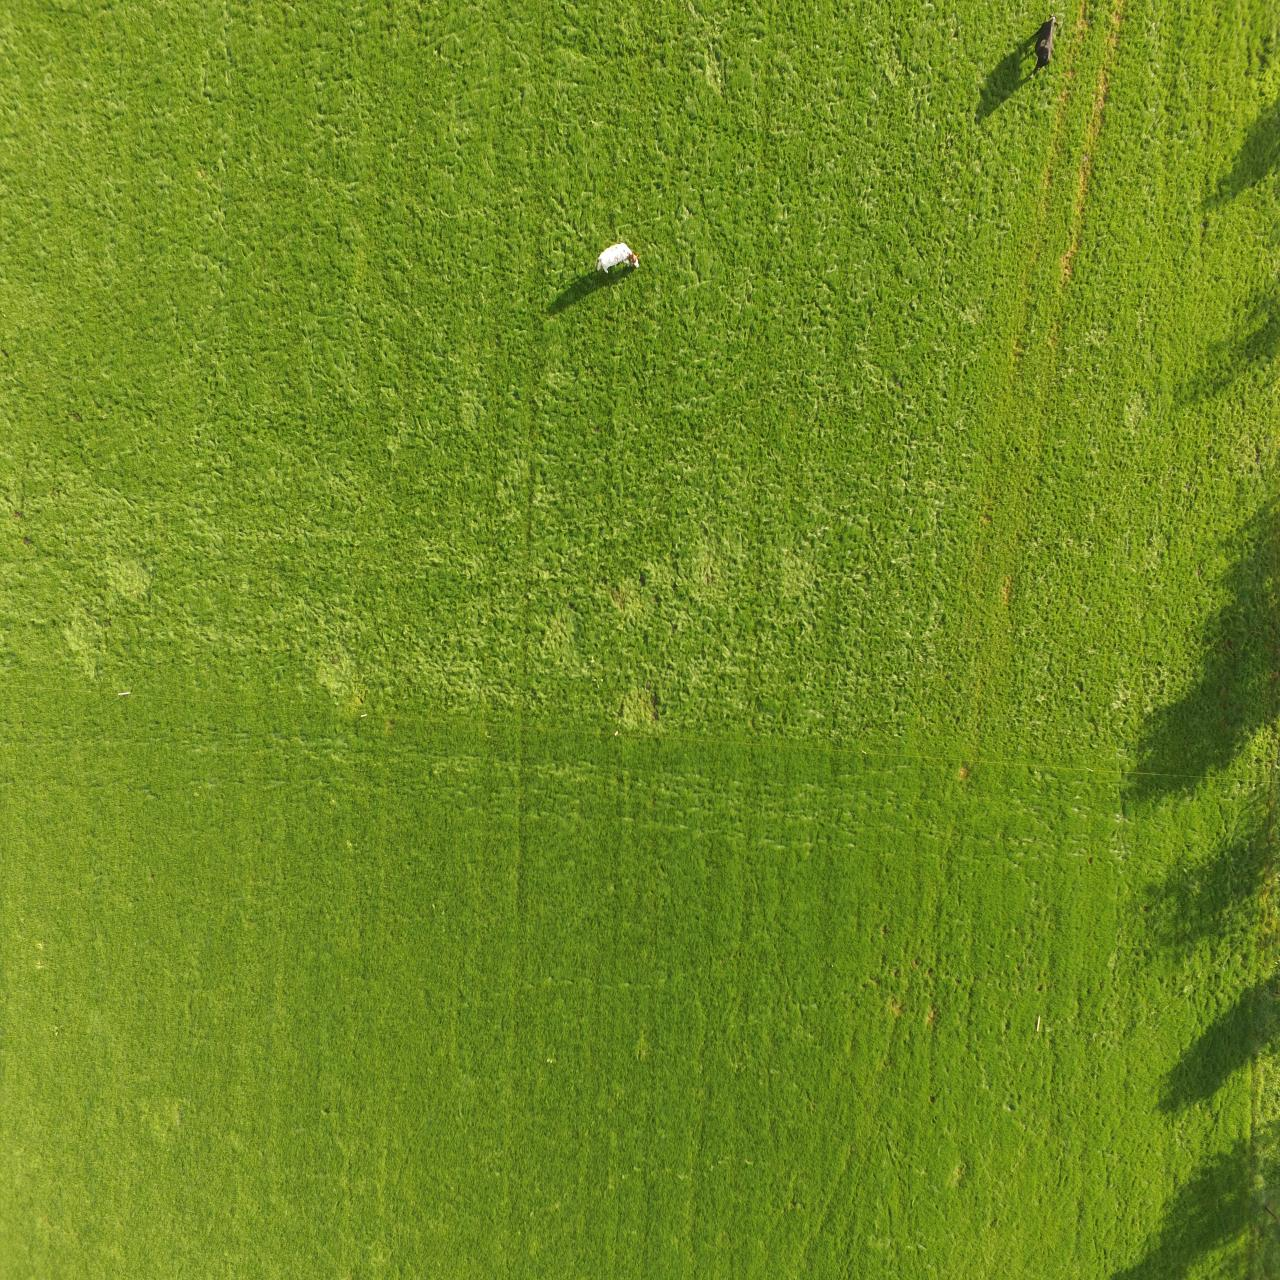cow: (1027, 11, 1061, 80), (591, 238, 644, 278)
